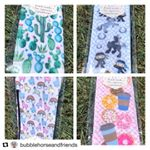cups: (99, 121, 121, 148)
